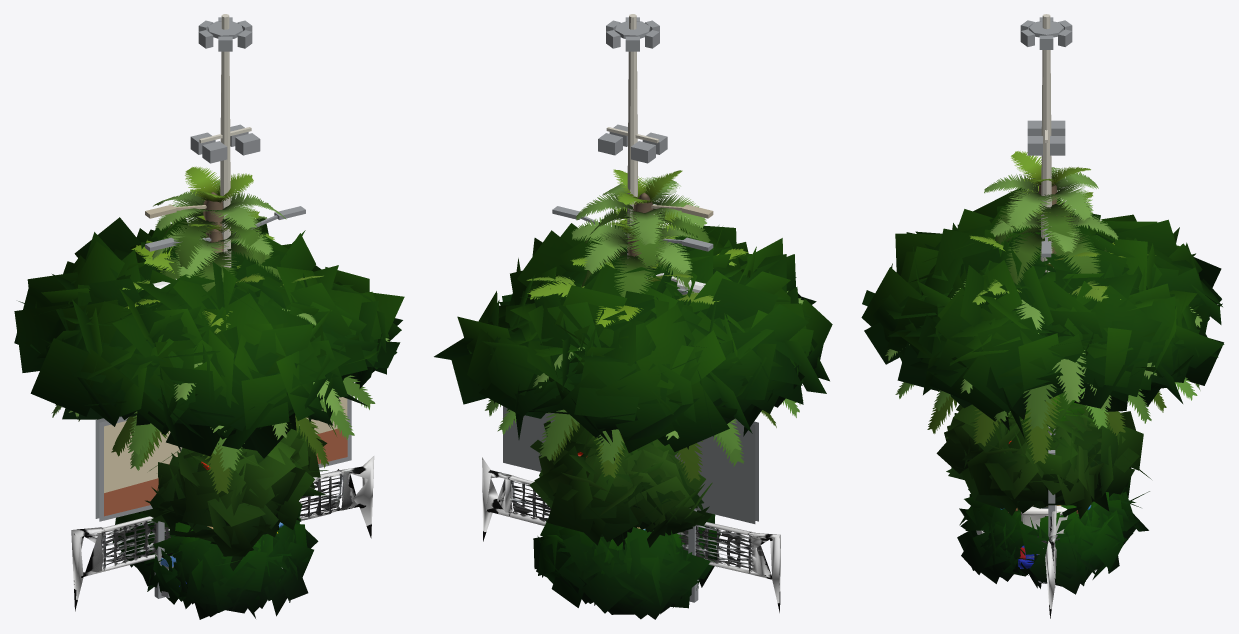
File: Dressing_Prototypes.fbx
3 views of the same model, side by side, from view 1: azimuth 30°, elevation 25°; view 2: azimuth 150°, elevation 25°; view 3: azimuth 270°, elevation 25° (orthographic). The views are drawn at different scales.
Parts seen in each view (by area): view 1: Veg_UmbrellaPine, Veg_UmbrellaPine_B, Veg_Olive, Veg_Shrub_B_L, Prop_Billboard, Prop_AIVolleyNet, Veg_FanPalm_B, Veg_Palm, Veg_FanPalm, Prop_LampMast, Veg_Palm_B, Veg_Shrub_L (+4 smaller); view 2: Veg_UmbrellaPine_B, Veg_UmbrellaPine, Veg_Shrub_B_L, Veg_Olive_B, Prop_Billboard, Veg_Olive, Prop_AIVolleyNet, Veg_FanPalm_B, Veg_FanPalm, Veg_Palm, Veg_Shrub_L, Prop_LampMast (+3 smaller); view 3: Veg_UmbrellaPine, Veg_UmbrellaPine_B, Veg_Olive_B, Veg_Olive, Veg_Shrub_B_L, Veg_FanPalm_B, Veg_Shrub_L, Veg_FanPalm, Veg_Palm, Veg_Palm_B, Prop_LampMast, Prop_FloodMast (+3 smaller).
Boxes of the visible parts, <box> form: Veg_UmbrellaPine: <box>14,218,404,450</box>; Veg_UmbrellaPine_B: <box>14,217,402,458</box>; Veg_Olive: <box>145,427,327,570</box>; Veg_Shrub_B_L: <box>112,503,318,619</box>; Prop_Billboard: <box>95,394,351,598</box>; Prop_AIVolleyNet: <box>71,456,374,611</box>; Veg_FanPalm_B: <box>153,166,286,268</box>; Veg_Palm: <box>51,245,375,471</box>; Veg_FanPalm: <box>152,189,281,291</box>; Prop_LampMast: <box>198,14,252,267</box>; Veg_Palm_B: <box>56,233,389,494</box>; Veg_Shrub_L: <box>144,522,308,608</box>; Veg_UmbrellaPine_B: <box>434,220,826,460</box>; Veg_UmbrellaPine: <box>457,223,832,452</box>; Veg_Shrub_B_L: <box>533,514,719,619</box>; Veg_Olive_B: <box>534,421,711,549</box>; Prop_Billboard: <box>503,406,758,602</box>; Veg_Olive: <box>529,432,712,547</box>; Prop_AIVolleyNet: <box>482,457,780,612</box>; Veg_FanPalm_B: <box>575,169,710,268</box>; Veg_FanPalm: <box>571,197,699,297</box>; Veg_Palm: <box>485,236,803,482</box>; Veg_Shrub_L: <box>537,519,720,608</box>; Prop_LampMast: <box>606,14,659,264</box>; Veg_UmbrellaPine: <box>861,187,1224,438</box>; Veg_UmbrellaPine_B: <box>887,199,1223,430</box>; Veg_Olive_B: <box>961,392,1151,515</box>; Veg_Olive: <box>936,404,1135,518</box>; Veg_Shrub_B_L: <box>957,477,1149,594</box>; Veg_FanPalm_B: <box>984,151,1098,256</box>; Veg_Shrub_L: <box>969,492,1128,582</box>; Veg_FanPalm: <box>990,178,1118,284</box>; Veg_Palm: <box>927,242,1202,463</box>; Veg_Palm_B: <box>885,254,1197,446</box>; Prop_LampMast: <box>1020,14,1072,272</box>; Prop_FloodMast: <box>1027,120,1065,155</box>.
Size of the model in its own units: 11.04 by 17.55 by 10.45.
